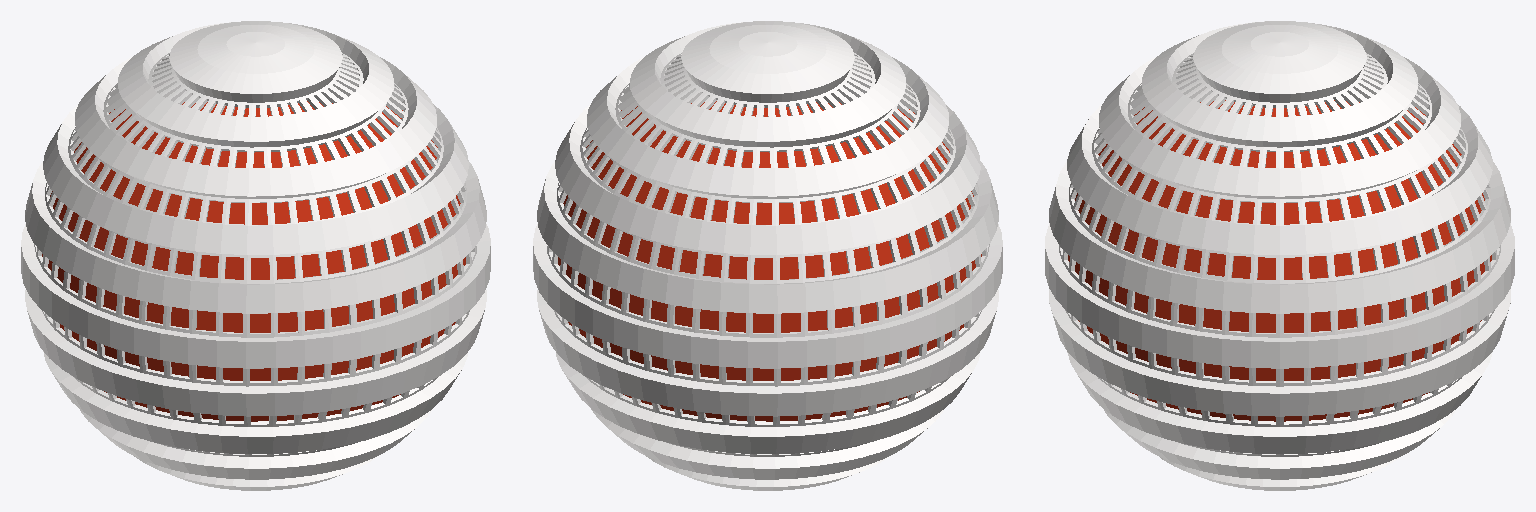
File: 桌子上装饰.obj
3 views of the same model, side by side, from view 1: azimuth 30°, elevation 25°; view 2: azimuth 150°, elevation 25°; view 3: azimuth 270°, elevation 25° (orthographic).
Parts seen in each view (by area): view 1: 球体装饰; view 2: 球体装饰; view 3: 球体装饰.
Part boxes in pixels (left/top/right/bottom): 球体装饰: left=21, top=21, right=490, bottom=490; 球体装饰: left=533, top=21, right=1002, bottom=490; 球体装饰: left=1045, top=21, right=1514, bottom=490.
Size of the model in its own units: 72.17 by 72.32 by 72.03.